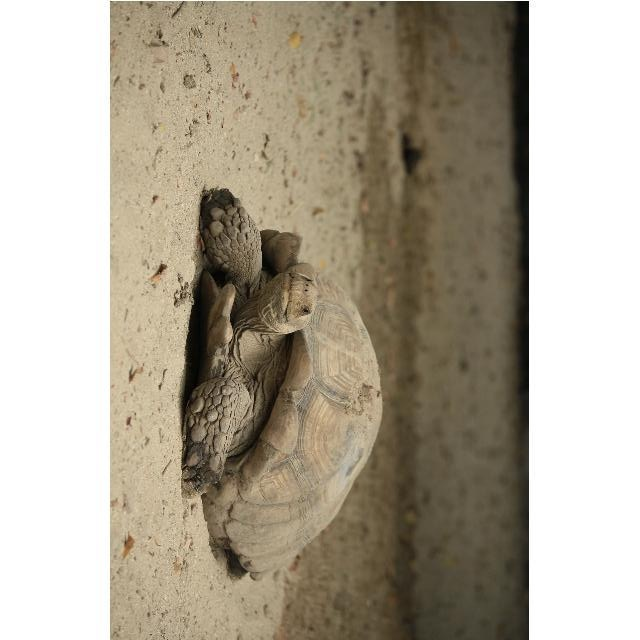turtle: (181, 187, 385, 583)
